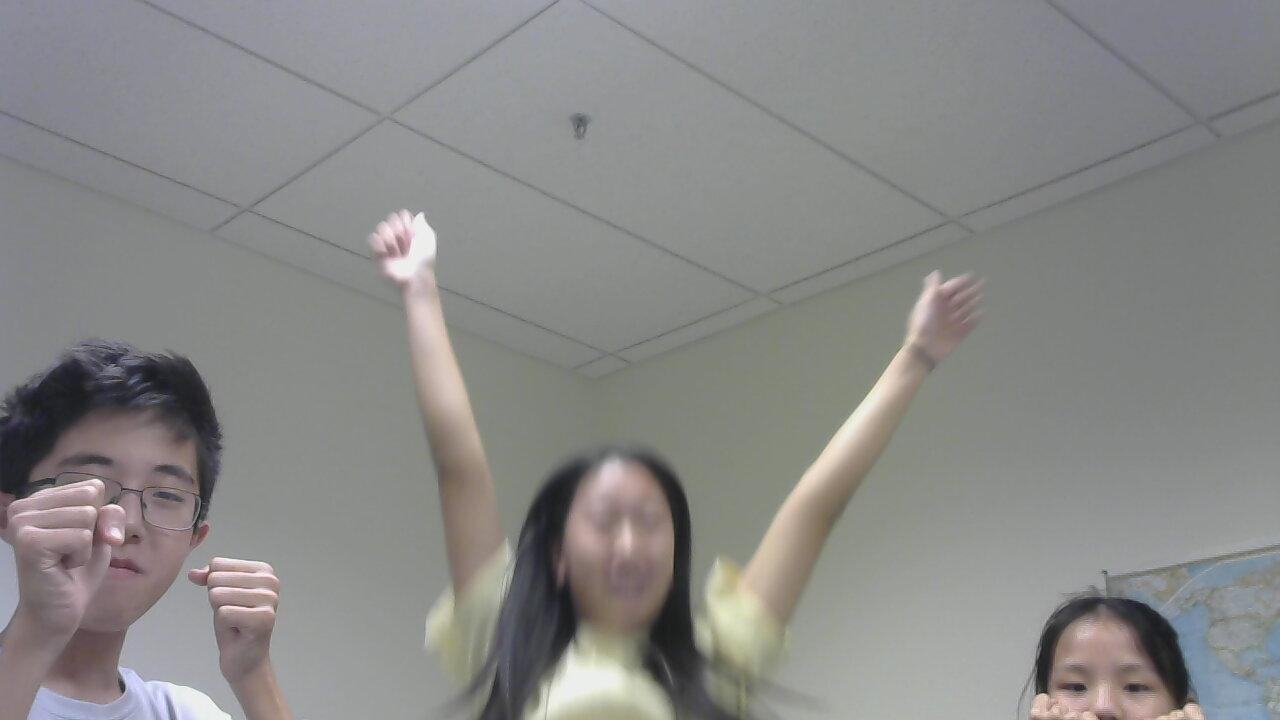fist: (6, 464, 137, 636), (186, 552, 277, 654), (338, 207, 437, 298)
